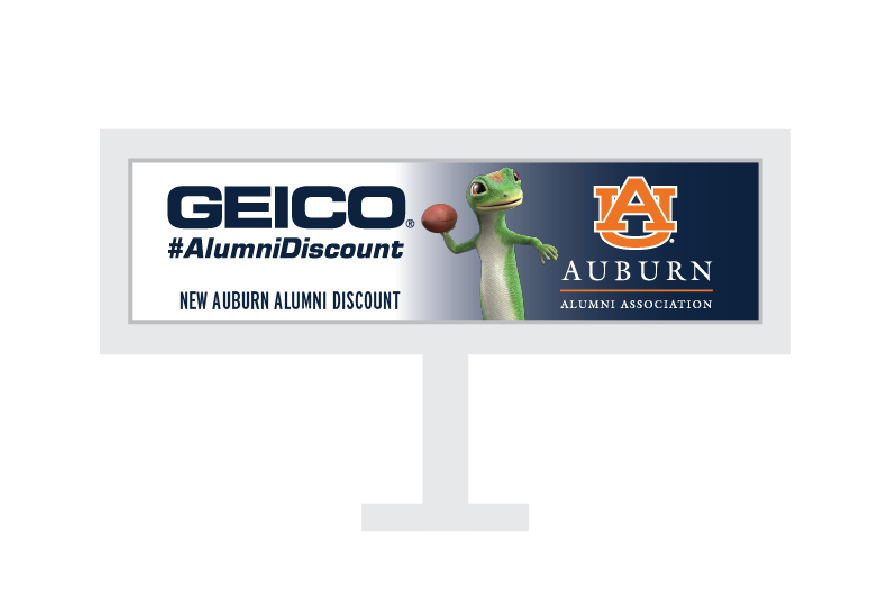Geico: (167, 180, 410, 230)
